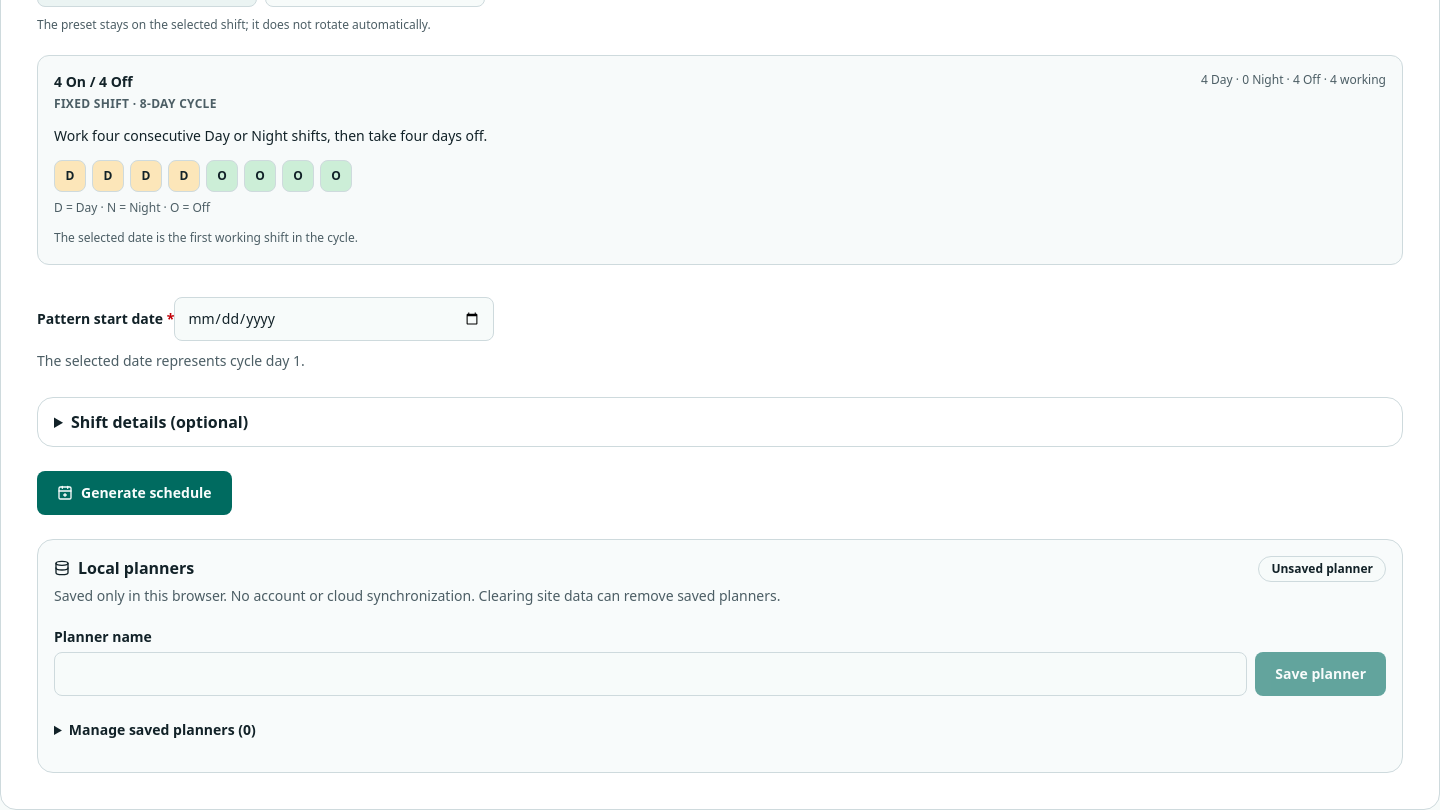
Test: generator form › shows a connected start-date error and focuses the summary
(page scrolled)
Click the button "Generate schedule" at (134, 493), box x1=37 y1=471 x2=232 y2=515
(page scrolled)
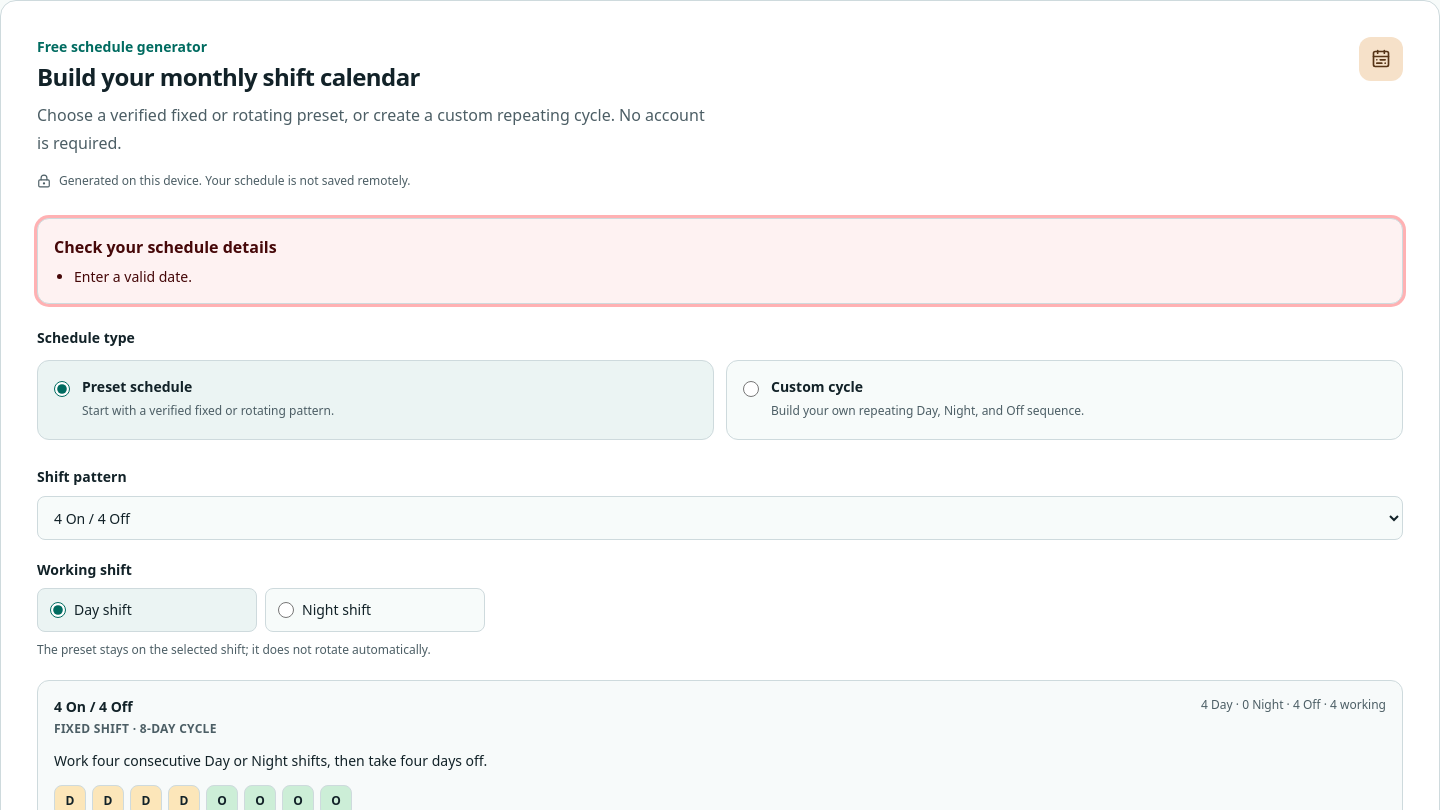
Expected: the list item "Enter a valid date." is shown, x1=74 y1=267 x2=192 y2=286
